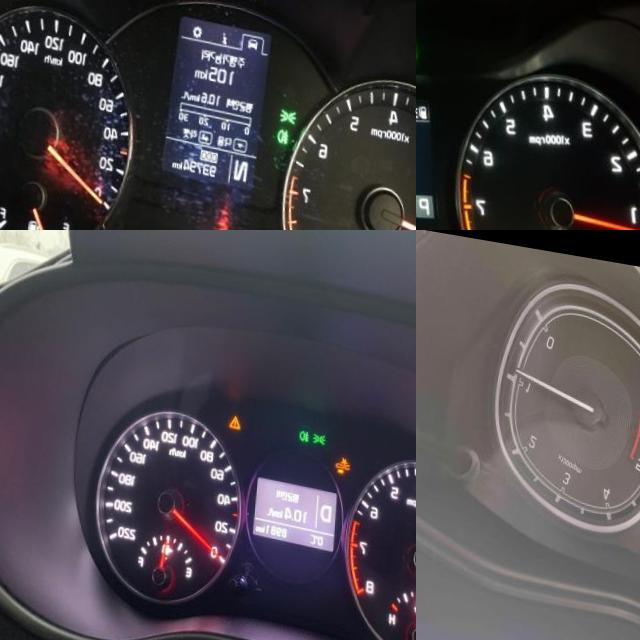Central Warning lamp: (232, 404, 245, 420)
FrontFogLight: (280, 112, 294, 132), (303, 417, 312, 431)
SideLamp: (282, 92, 301, 112), (316, 420, 330, 434)
